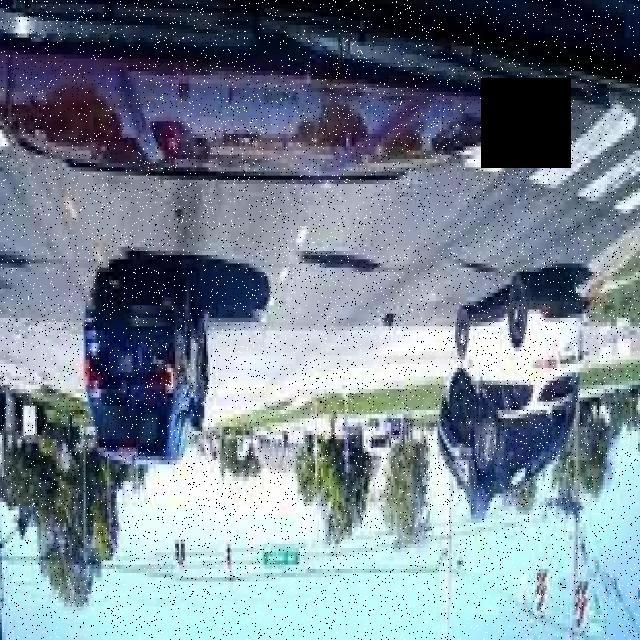severe: (436, 276, 588, 519)
